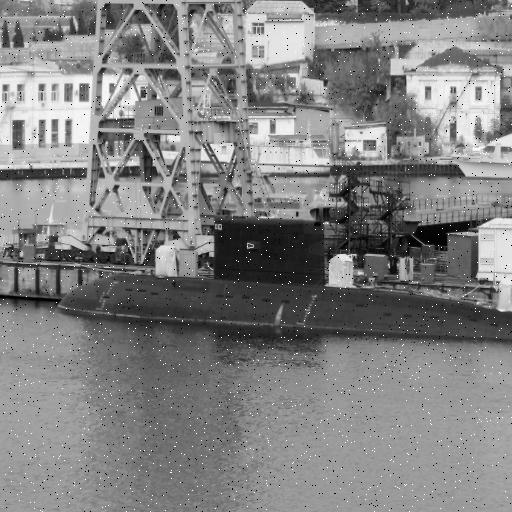submarine: (60, 220, 512, 345)
